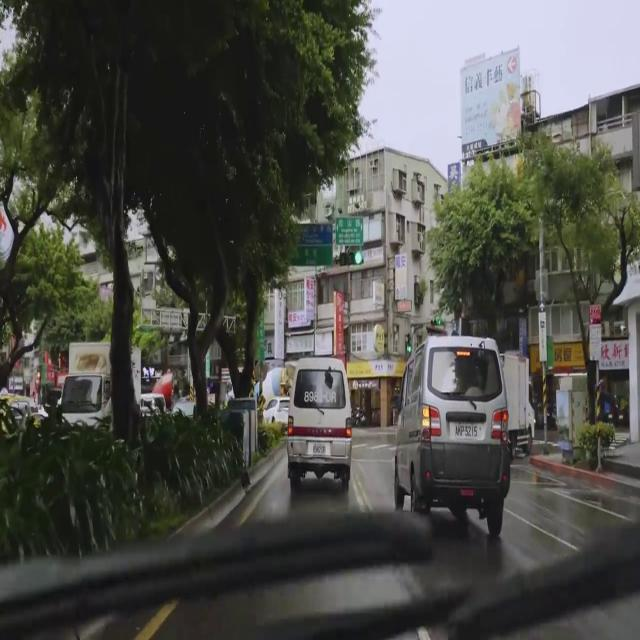green light: (340, 251, 363, 265)
